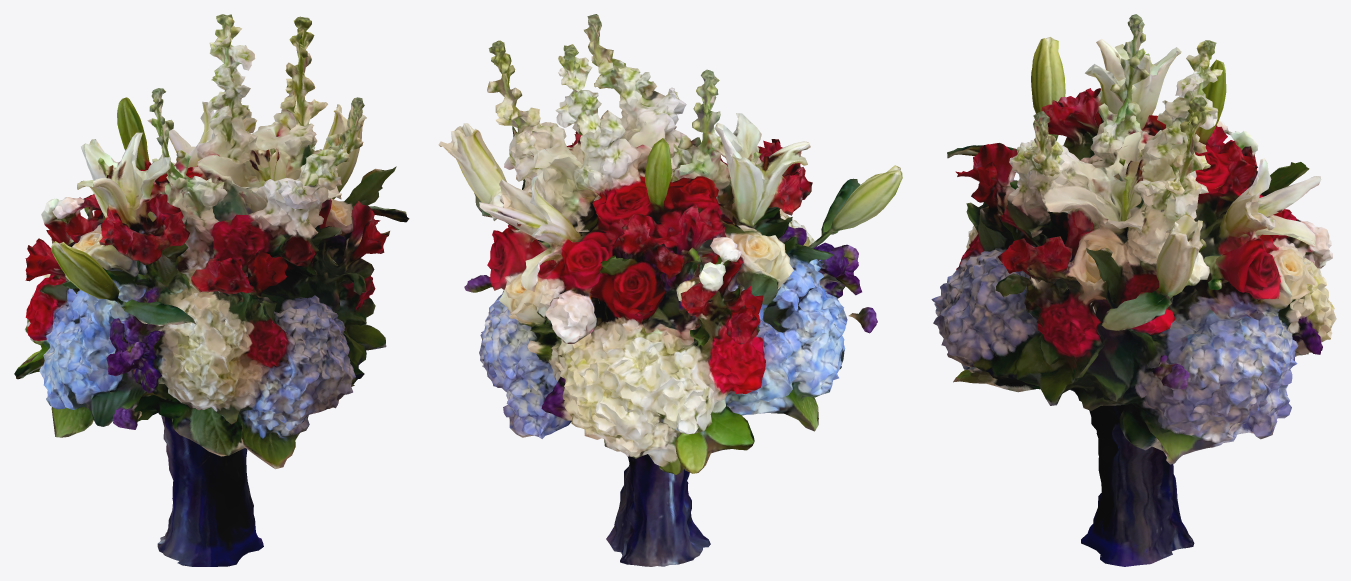
The model's file is flowers_from_team.glb.
3 views of the same model, side by side, from view 1: azimuth 30°, elevation 25°; view 2: azimuth 150°, elevation 25°; view 3: azimuth 270°, elevation 25° (orthographic). The views are drawn at different scales.
Parts seen in each view (by area): view 1: Object_4; view 2: Object_4; view 3: Object_4.
Part boxes in pixels (x1,y1,x2,y2): Object_4: (14,14,409,566); Object_4: (438,14,902,566); Object_4: (931,14,1336,566).
Size of the model in its own units: 0.4903 by 0.6034 by 0.4209.
1 material, 1 textured.
